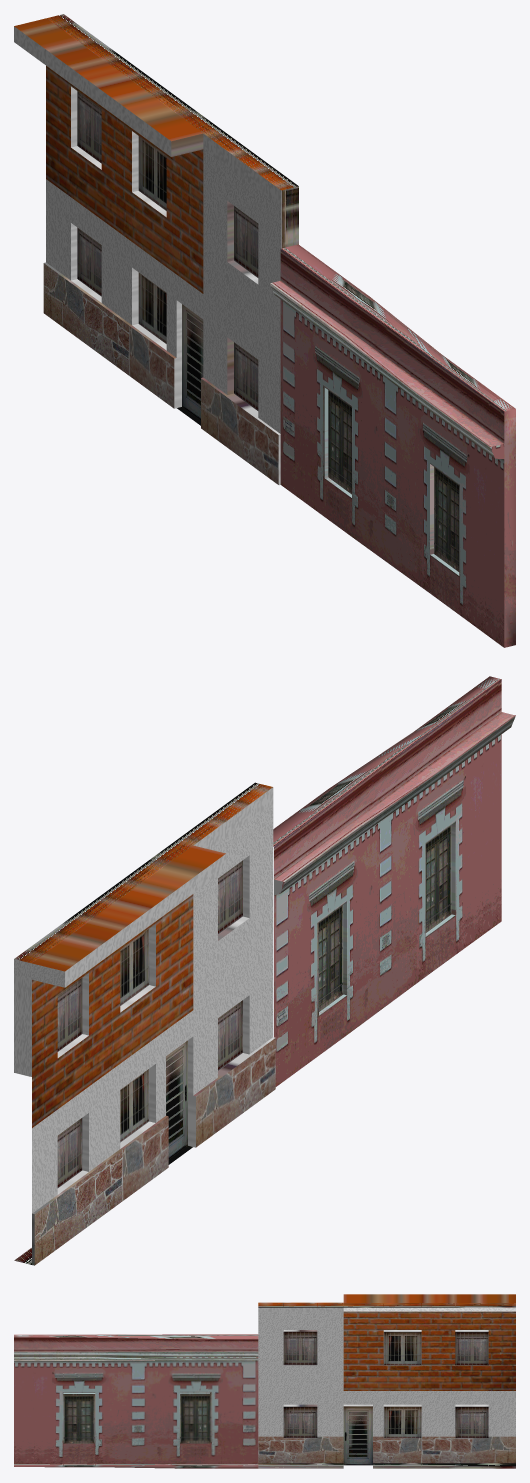
File: Casa_PjsRevol.fbx
The picture shows the model from 3 angles, top to bottom: view 1: azimuth 30°, elevation 25°; view 2: azimuth 150°, elevation 25°; view 3: azimuth 270°, elevation 25°; orthographic projection. The views are drawn at different scales.
Parts seen in each view (by area): view 1: Casa_PjsRevol; view 2: Casa_PjsRevol; view 3: Casa_PjsRevol.
Part boxes in pixels (x1,y1,x2,y2): Casa_PjsRevol: (14, 14, 515, 647); Casa_PjsRevol: (14, 676, 515, 1265); Casa_PjsRevol: (14, 1294, 515, 1468).
Bounding box in the file's own units: 2.81 × 15.87 × 44.8.
